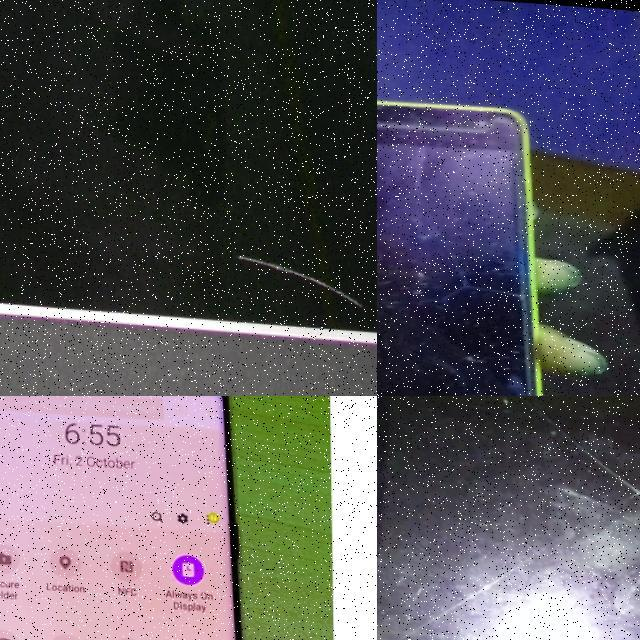scratch: (229, 236, 368, 309)
screen crack: (377, 396, 640, 640), (377, 170, 531, 347), (452, 380, 548, 396)
